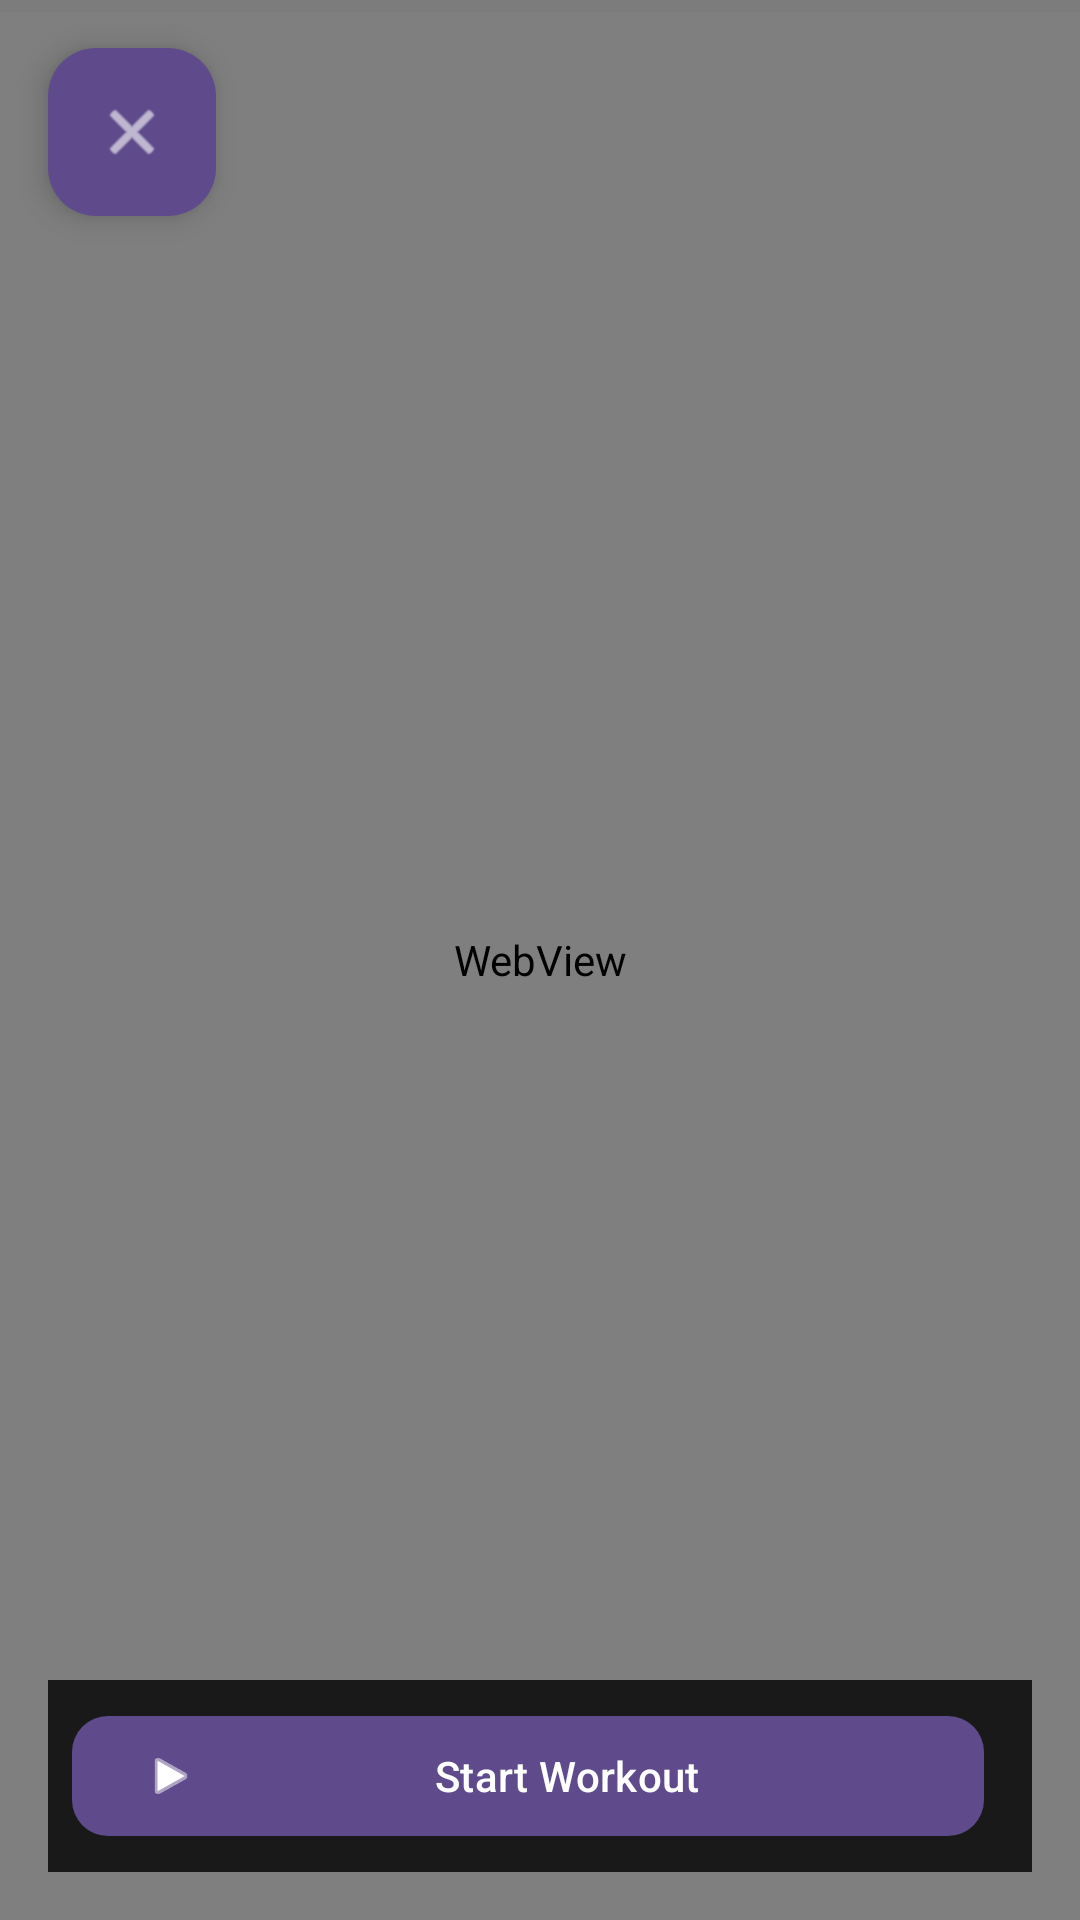

Point at icon controls on the screen. Image size 1080x1920, points as (x,y).
Close: (132,132)
